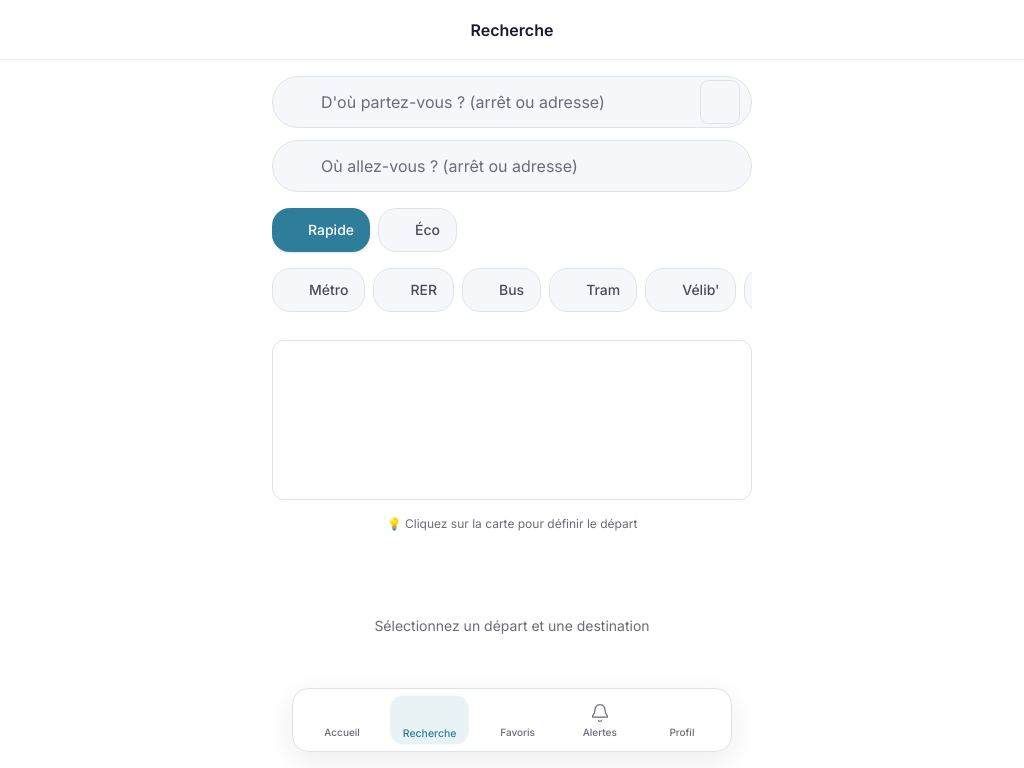
it: SearchPage — saisie libre résolue au submit (C2) › résout une adresse quand aucun arrêt GTFS ne correspond
Type "10 rue de rivoli" into the dropdown with placeholder "Où allez-vous ? (arrêt ou adresse)". click: (512, 166)
box: [272,140,752,192]
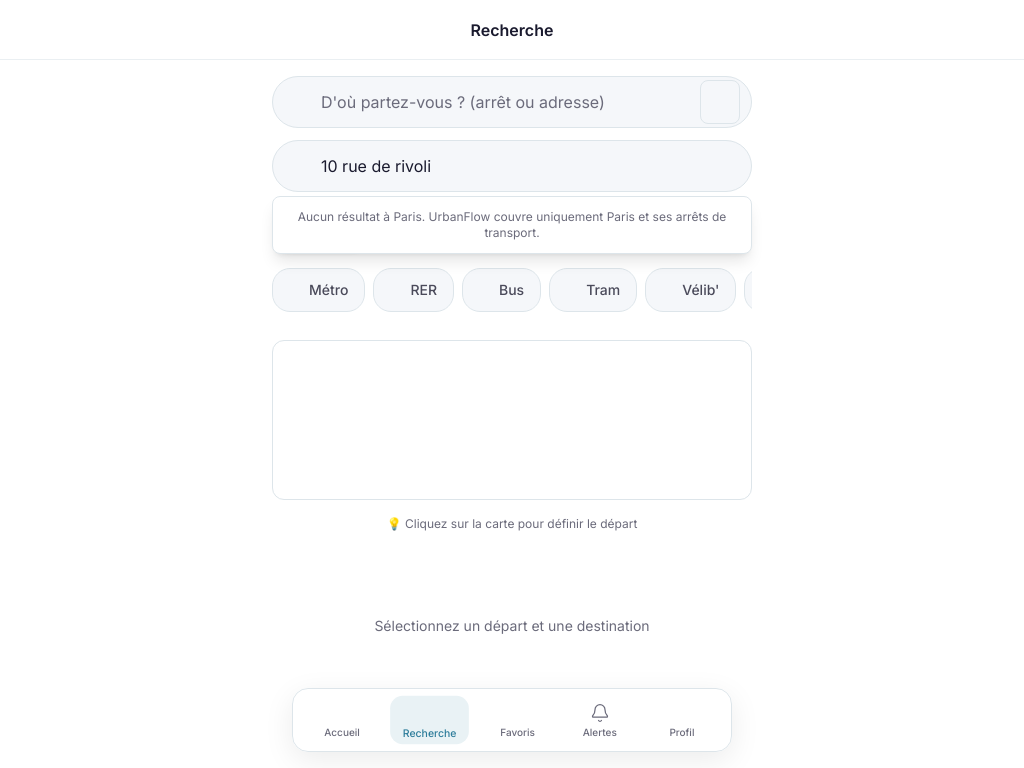
Press Enter in the dropdown named "Où allez-vous ? (arrêt ou adresse)", box [272,140,752,192]
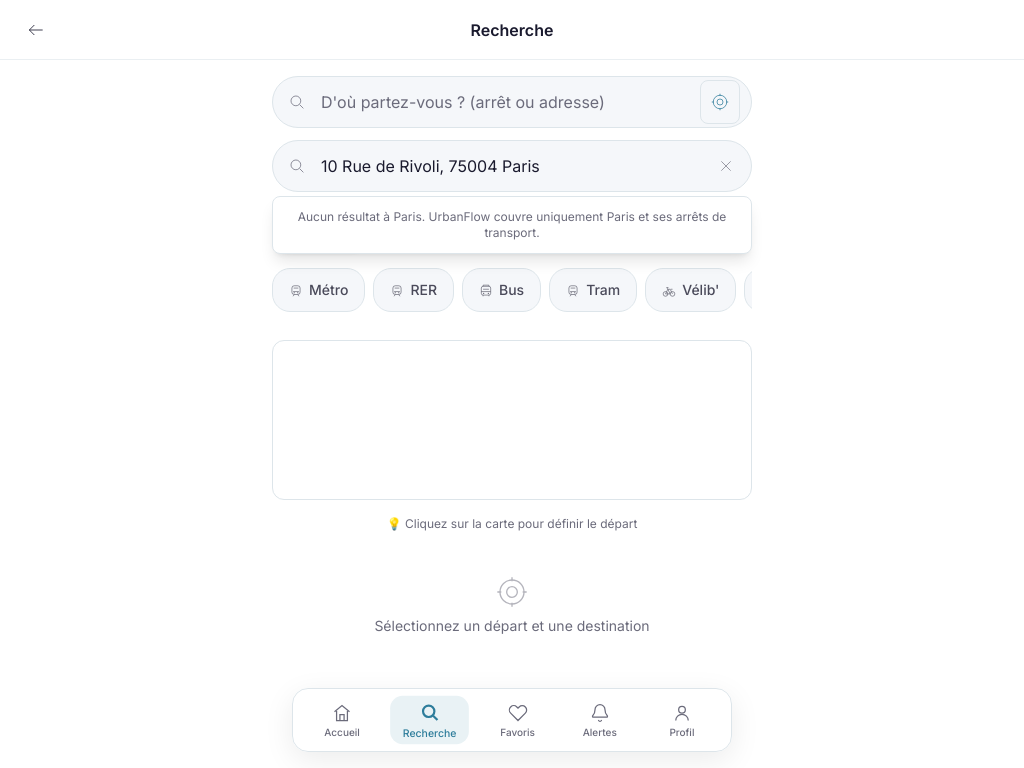
expect the dropdown named "Où allez-vous ? (arrêt ou adresse)" holds "10 Rue de Rivoli, 75004 Paris": met, box [272,140,752,192]
